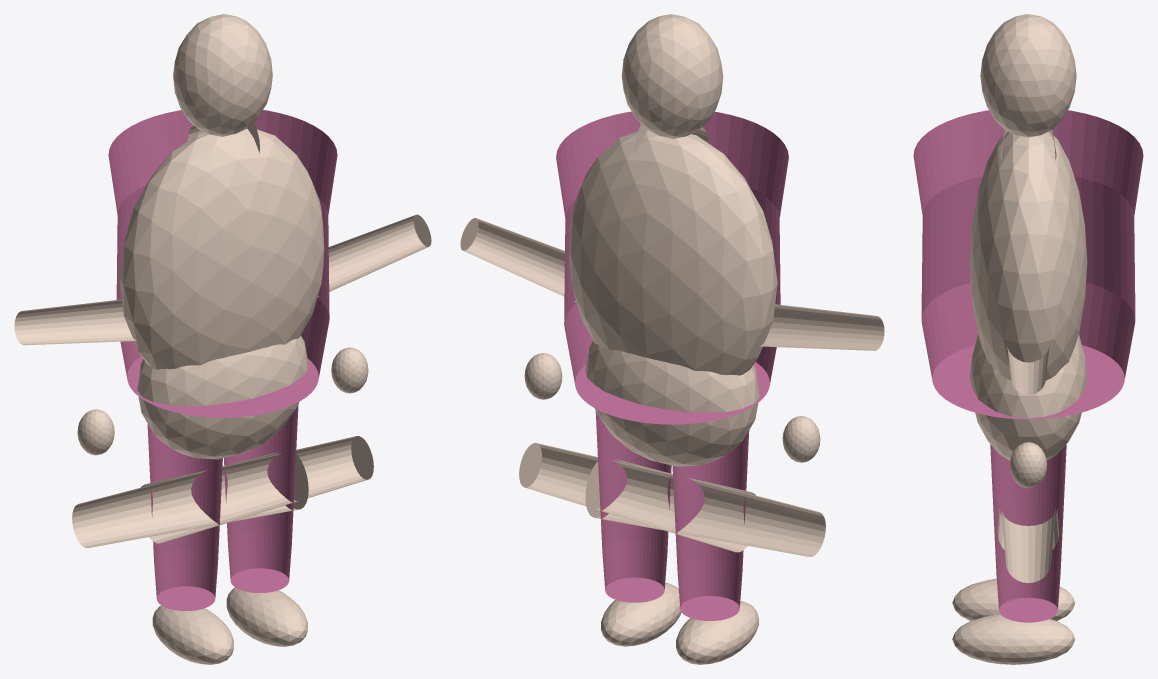
File: masculino-enterizo.glb
3 renders of one model, left to right at view 1: azimuth 30°, elevation 25°; view 2: azimuth 150°, elevation 25°; view 3: azimuth 270°, elevation 25°, orthographic.
Visible parts, largest first — view 1: Avatar0, Prenda, Avatar1, Avatar3, Avatar4, Avatar8, Avatar6, Avatar10, Avatar9, Avatar5, Avatar11, Avatar7; view 2: Avatar0, Prenda, Avatar1, Avatar3, Avatar4, Avatar8, Avatar6, Avatar10, Avatar5, Avatar9, Avatar11, Avatar7; view 3: Prenda, Avatar0, Avatar3, Avatar1, Avatar9, Avatar8, Avatar5, Avatar11, Avatar10, Avatar4.
Part boxes in pixels (bbox=[...]): Avatar0: bbox=[119, 128, 324, 369]; Prenda: bbox=[108, 110, 337, 610]; Avatar1: bbox=[137, 335, 308, 459]; Avatar3: bbox=[173, 14, 272, 136]; Avatar4: bbox=[72, 452, 308, 547]; Avatar8: bbox=[141, 436, 373, 543]; Avatar6: bbox=[14, 299, 137, 345]; Avatar10: bbox=[317, 214, 431, 296]; Avatar9: bbox=[226, 587, 307, 646]; Avatar5: bbox=[152, 605, 233, 664]; Avatar11: bbox=[331, 347, 368, 393]; Avatar7: bbox=[77, 409, 114, 455]; Avatar0: bbox=[569, 130, 777, 375]; Prenda: bbox=[556, 111, 788, 620]; Avatar1: bbox=[585, 341, 759, 466]; Avatar3: bbox=[621, 14, 723, 138]; Avatar4: bbox=[585, 459, 825, 556]; Avatar8: bbox=[519, 443, 755, 552]; Avatar6: bbox=[760, 304, 884, 350]; Avatar10: bbox=[460, 218, 576, 301]; Avatar5: bbox=[676, 601, 758, 664]; Avatar9: bbox=[601, 582, 681, 646]; Avatar11: bbox=[524, 353, 562, 399]; Avatar7: bbox=[782, 416, 820, 462]; Prenda: bbox=[913, 110, 1143, 622]; Avatar0: bbox=[969, 131, 1087, 380]; Avatar3: bbox=[980, 14, 1076, 137]; Avatar1: bbox=[969, 334, 1087, 460]; Avatar9: bbox=[952, 614, 1075, 664]; Avatar8: bbox=[1001, 508, 1055, 582]; Avatar5: bbox=[952, 578, 1074, 620]; Avatar11: bbox=[1009, 442, 1047, 488]; Avatar10: bbox=[1007, 345, 1049, 394]; Avatar4: bbox=[997, 509, 1059, 549].
Size of the model in its own units: 1.75 by 2.58 by 0.86.
